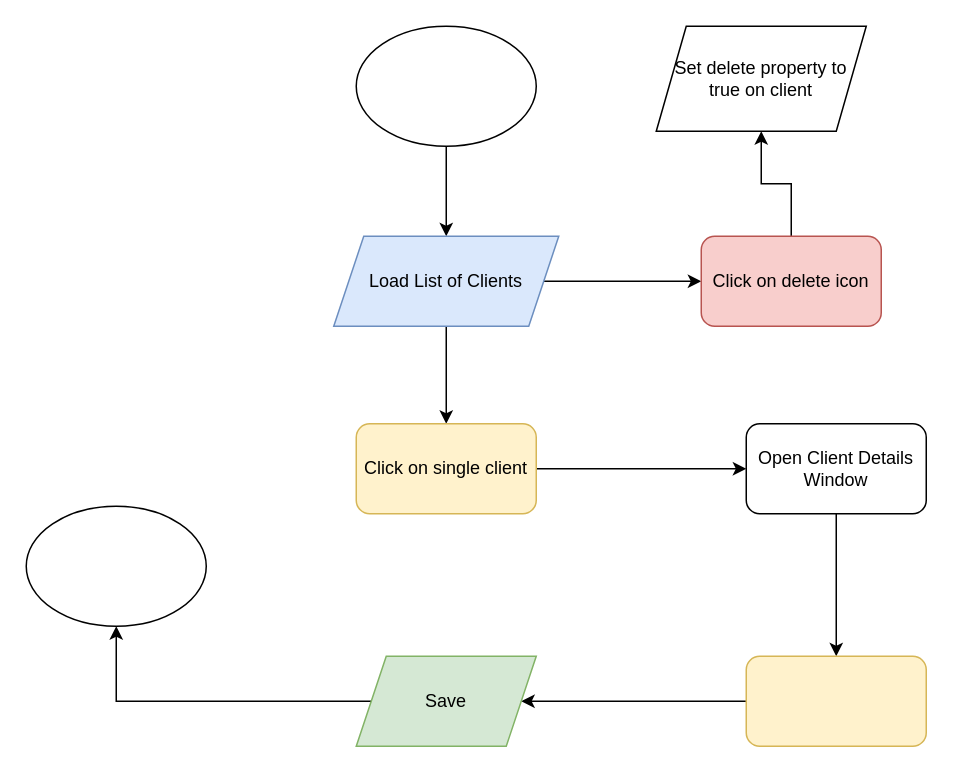
Image size: 953x773. Some labels were removed from this diagram. Each missing label, with the centre of its shape:
End Process: pixel 115 565
Make change to client data.: pixel 835 700
Open Clients Page: pixel 445 85
